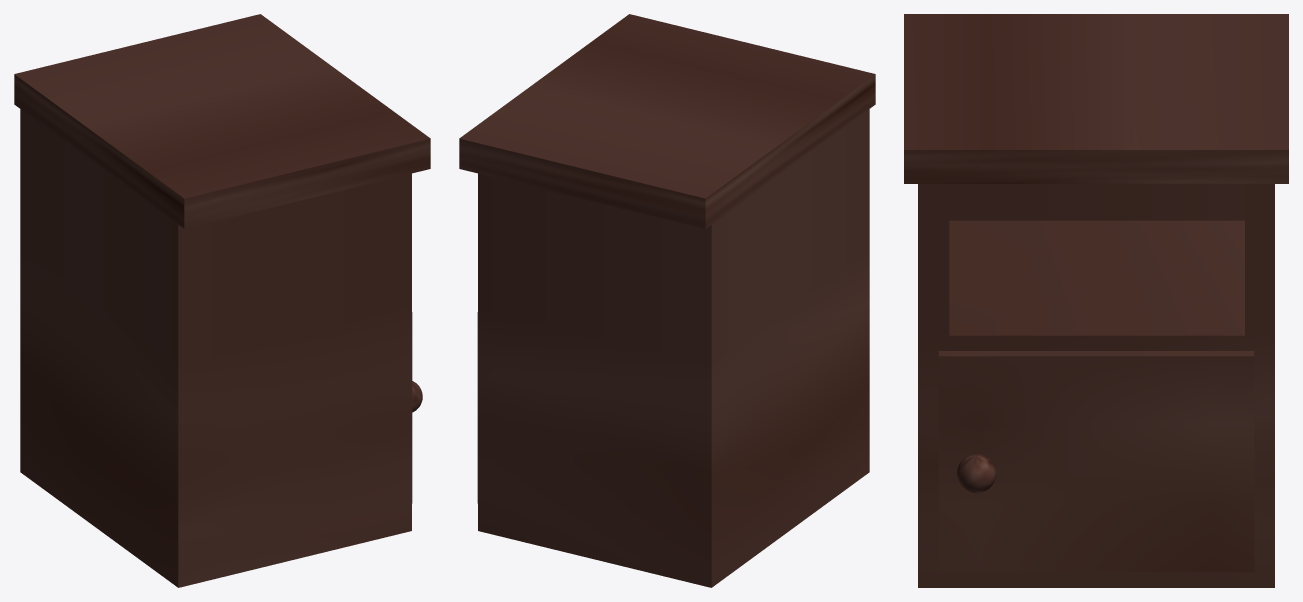
The model's file is tumba.fbx.
The picture shows the model from 3 angles, left to right: view 1: azimuth 30°, elevation 25°; view 2: azimuth 150°, elevation 25°; view 3: azimuth 270°, elevation 25°; orthographic projection. The views are drawn at different scales.
Parts seen in each view (by area): view 1: Cube_0, Cube_001_1; view 2: Cube_0, Cube_001_1; view 3: Cube_0, Plane_2, Cube_001_1, Sphere_3.
Boxes of the visible parts, bbox=[...] form: Cube_0: bbox=[20, 109, 411, 587]; Cube_001_1: bbox=[14, 14, 430, 228]; Cube_0: bbox=[478, 109, 869, 587]; Cube_001_1: bbox=[459, 14, 875, 228]; Cube_0: bbox=[918, 184, 1274, 587]; Plane_2: bbox=[938, 351, 1254, 572]; Cube_001_1: bbox=[904, 14, 1288, 183]; Sphere_3: bbox=[957, 454, 996, 493].
Bounding box in the file's own units: 336 × 472 × 370.
